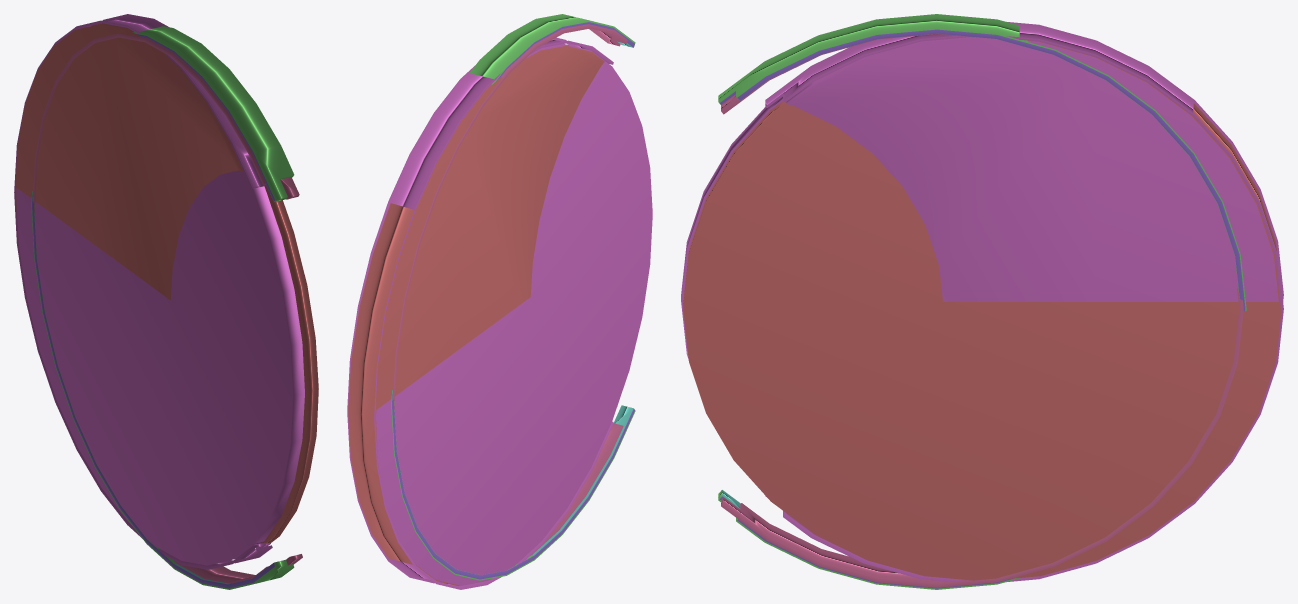
File: moon-original.glb
3 views of the same model, side by side, from view 1: azimuth 30°, elevation 25°; view 2: azimuth 150°, elevation 25°; view 3: azimuth 270°, elevation 25° (orthographic). The views are drawn at different scales.
Parts seen in each view (by area): view 1: Cylinder.009, Cylinder.006, Cylinder.012, Cylinder, Cylinder.015, Cylinder.003, Cylinder.022, Cylinder.020, Cylinder.024, Cylinder.028; view 2: Cylinder, Cylinder.012, Cylinder.015, Cylinder.009, Cylinder.003, Cylinder.022, Cylinder.024, Cylinder.020, Cylinder.006, Cylinder.028, Cylinder.018; view 3: Cylinder, Cylinder.003, Cylinder.009, Cylinder.006, Cylinder.012, Cylinder.015, Cylinder.022, Cylinder.024, Cylinder.020, Cylinder.028.
Boxes of the visible parts, x1,y1,x2,y2 form: Cylinder.009: (14, 14, 292, 569); Cylinder.006: (17, 24, 318, 543); Cylinder.012: (14, 17, 292, 568); Cylinder: (15, 23, 306, 484); Cylinder.015: (14, 14, 304, 569); Cylinder.003: (15, 25, 299, 542); Cylinder.022: (31, 26, 294, 589); Cylinder.020: (32, 34, 284, 588); Cylinder.024: (33, 33, 290, 581); Cylinder.028: (34, 53, 302, 583); Cylinder: (348, 48, 604, 585); Cylinder.012: (347, 42, 652, 587); Cylinder.015: (348, 38, 652, 589); Cylinder.009: (347, 37, 652, 588); Cylinder.003: (376, 46, 584, 586); Cylinder.022: (391, 14, 635, 580); Cylinder.024: (393, 28, 625, 555); Cylinder.020: (392, 22, 634, 579); Cylinder.006: (376, 45, 604, 581); Cylinder.028: (532, 24, 627, 554); Cylinder.018: (532, 41, 633, 555); Cylinder: (683, 40, 1281, 580); Cylinder.003: (684, 45, 1280, 579); Cylinder.009: (681, 22, 1283, 582); Cylinder.006: (683, 51, 1281, 580); Cylinder.012: (681, 21, 1283, 581); Cylinder.015: (681, 23, 1282, 581); Cylinder.022: (718, 14, 1246, 589); Cylinder.024: (723, 33, 1243, 587); Cylinder.020: (719, 29, 1245, 588); Cylinder.028: (721, 33, 1183, 587).
Size of the model in its own units: 8679 by 135638 by 131927.
